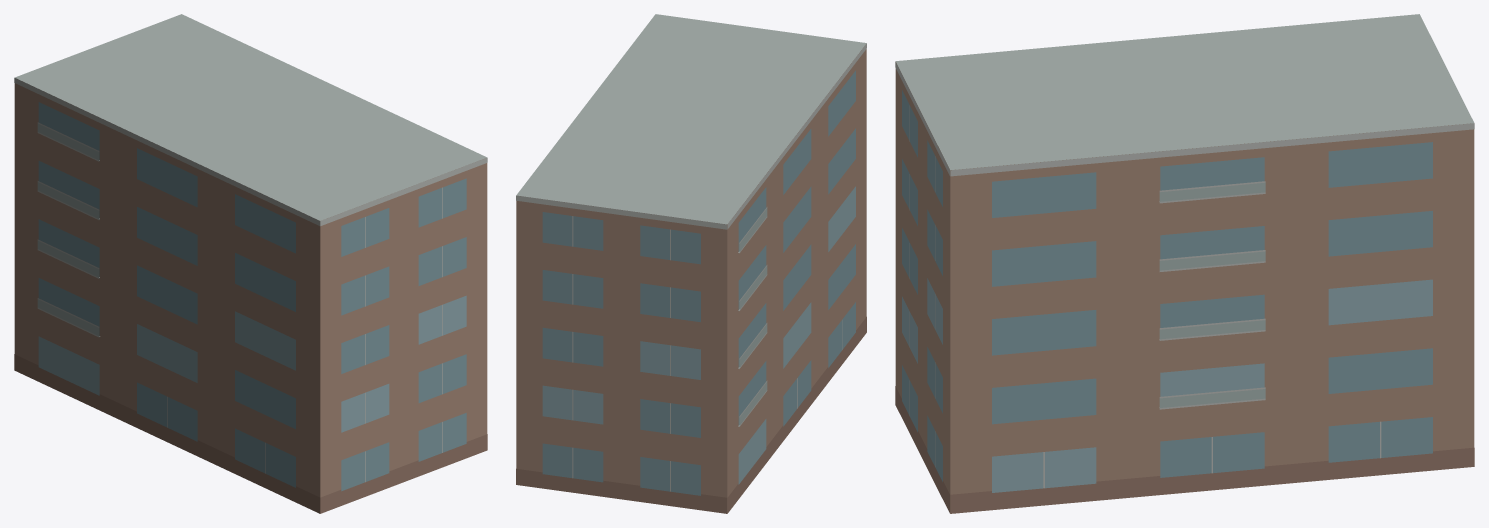
The model's file is survey-upis-32707539.glb.
The picture shows the model from 3 angles, left to right: view 1: azimuth 30°, elevation 25°; view 2: azimuth 150°, elevation 25°; view 3: azimuth 270°, elevation 25°; orthographic projection. The views are drawn at different scales.
Visible parts, largest first — view 1: survey-upis-32707539.tmp; view 2: survey-upis-32707539.tmp; view 3: survey-upis-32707539.tmp.
Boxes of the visible parts, <box> form: survey-upis-32707539.tmp: <box>14,14,487,513</box>; survey-upis-32707539.tmp: <box>516,14,866,513</box>; survey-upis-32707539.tmp: <box>895,14,1474,513</box>.
Size of the model in its own units: 13.07 by 13.4 by 20.47.
